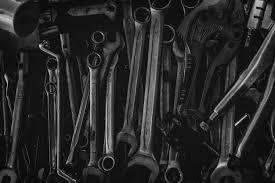wrench: (43, 81, 59, 182)
